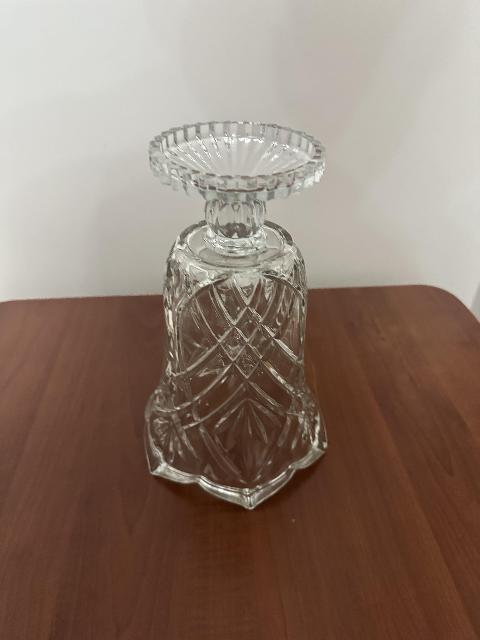Cam: (130, 117, 332, 512)
